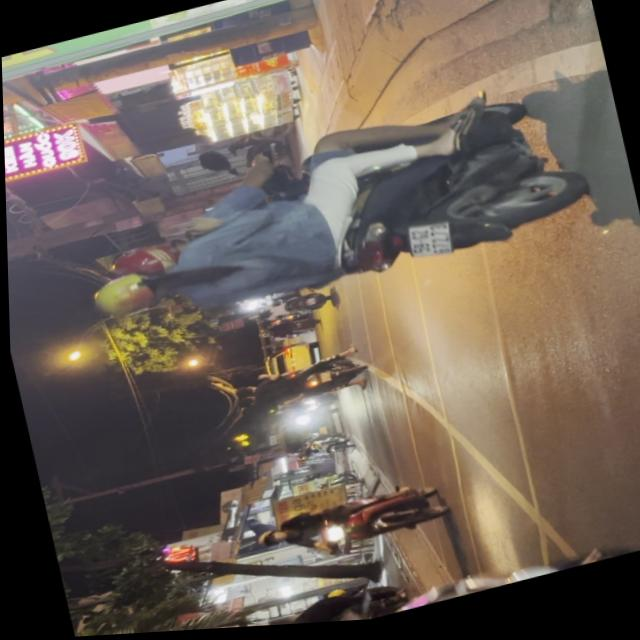helmet: (87, 262, 178, 323), (100, 231, 189, 289), (251, 530, 284, 553)
licenseplate: (64, 65, 639, 358), (162, 522, 640, 633), (246, 478, 453, 576)
nohelmet: (404, 224, 452, 267)
